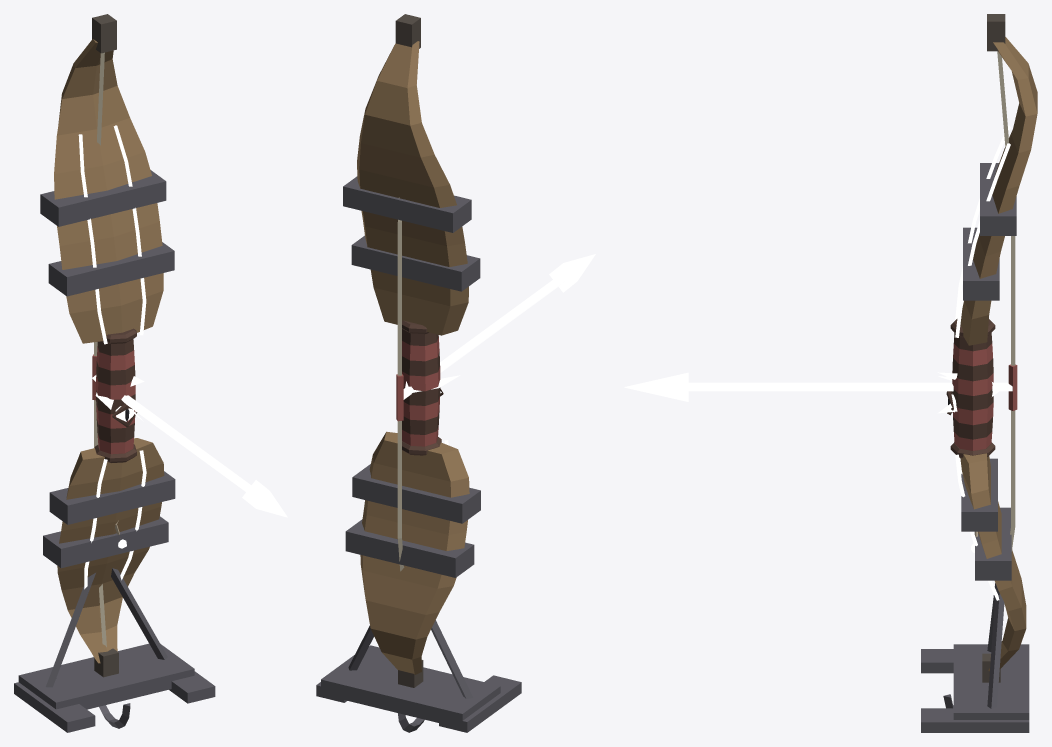
Rendered from bow-line-bow.glb.
The picture shows the model from 3 angles, left to right: view 1: azimuth 30°, elevation 25°; view 2: azimuth 150°, elevation 25°; view 3: azimuth 270°, elevation 25°; orthographic projection. The views are drawn at different scales.
Visible parts, largest first — view 1: bow-line-bow, pulse_arrow, pulse_vein, string; view 2: bow-line-bow, pulse_arrow, string; view 3: bow-line-bow, pulse_arrow, string, pulse_vein.
Boxes of the visible parts, x1,y1,x2,y2 form: bow-line-bow: (14,14,215,732); pulse_arrow: (92,375,287,517); pulse_vein: (78,125,146,589); string: (92,52,106,646); bow-line-bow: (316,14,521,732); pulse_arrow: (403,254,595,399); string: (396,197,404,571); bow-line-bow: (921,14,1037,732); pulse_arrow: (624,372,1012,413); string: (997,51,1017,604); pulse_vein: (955,125,1010,600).
Bounding box in the file's own units: 0.32 × 1.45 × 0.7627.
